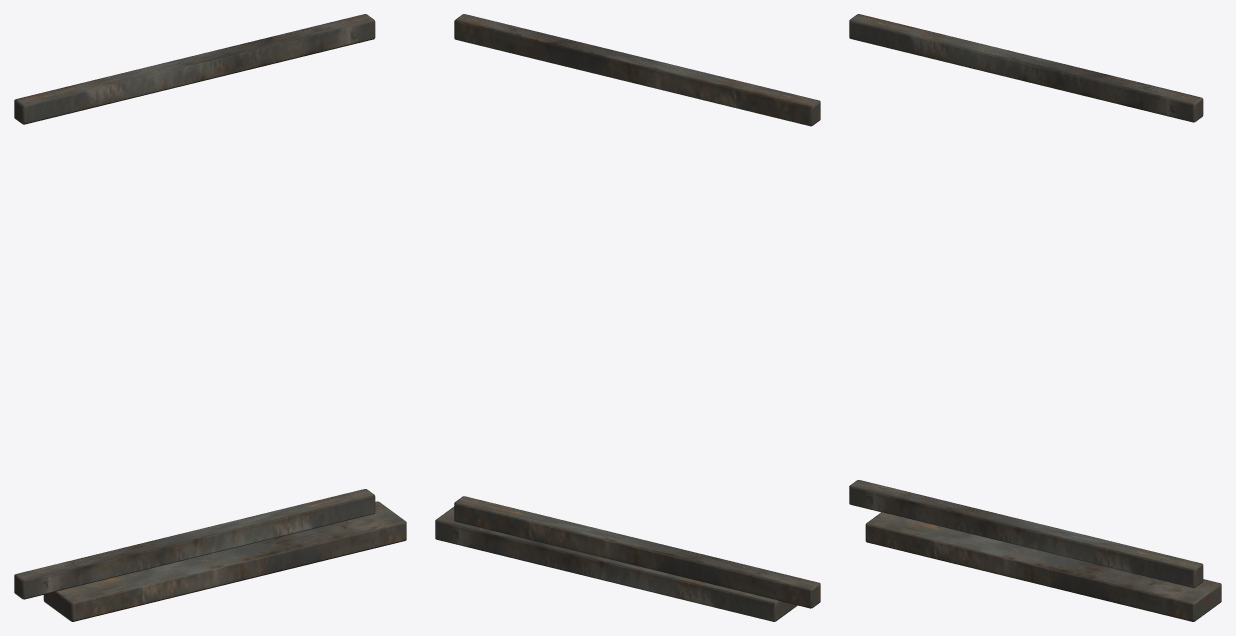
The model's file is wall_004.glb.
3 views of the same model, side by side, from view 1: azimuth 30°, elevation 25°; view 2: azimuth 150°, elevation 25°; view 3: azimuth 330°, elevation 25° (orthographic). The views are drawn at different scales.
Parts seen in each view (by area): view 1: Building_12_065; view 2: Building_12_065; view 3: Building_12_065.
Part boxes in pixels (x1,y1,x2,y2): Building_12_065: (14, 14, 406, 621); Building_12_065: (435, 14, 820, 621); Building_12_065: (849, 14, 1221, 621).
Bounding box in the file's own units: 1.5 × 2 × 0.2032.
Materials: 1 (1 with a texture image).
